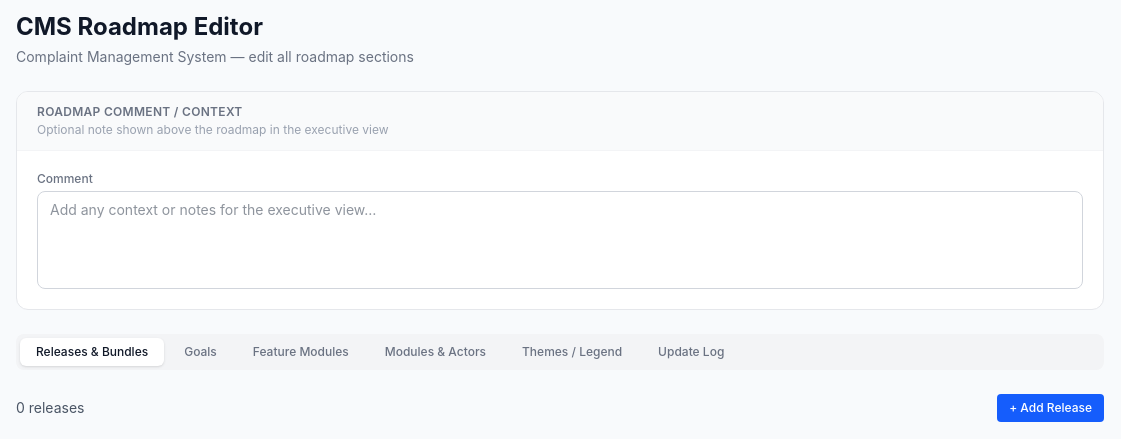
Test case: ComplaintsRoadmapEditor (via RoadmapEditor with cms slug) › T-50.04: clicking Feature Modules tab shows Modules content
What coordinates should you click on to do the following:
click the button "Feature Modules"
I would click on:
 (301, 352)
Its box is x1=237 y1=338 x2=365 y2=366.
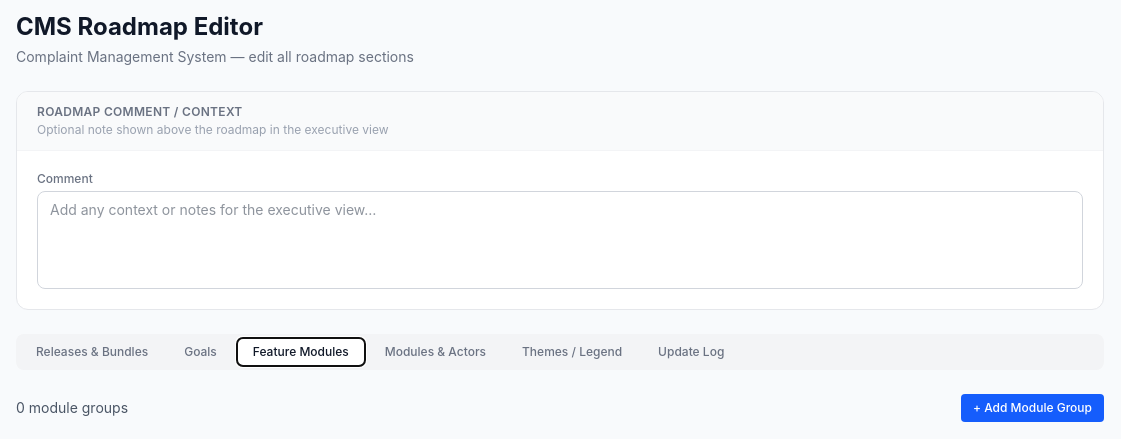
Expected: the button "+ Add Module Group" is shown, x1=961 y1=394 x2=1104 y2=422
